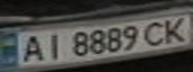8: (66, 28, 90, 57), (103, 25, 127, 54), (87, 27, 109, 55)
9: (121, 22, 145, 51)
A: (15, 33, 48, 64)
C: (139, 18, 172, 47)
I: (39, 30, 69, 61)
K: (157, 15, 193, 43)
